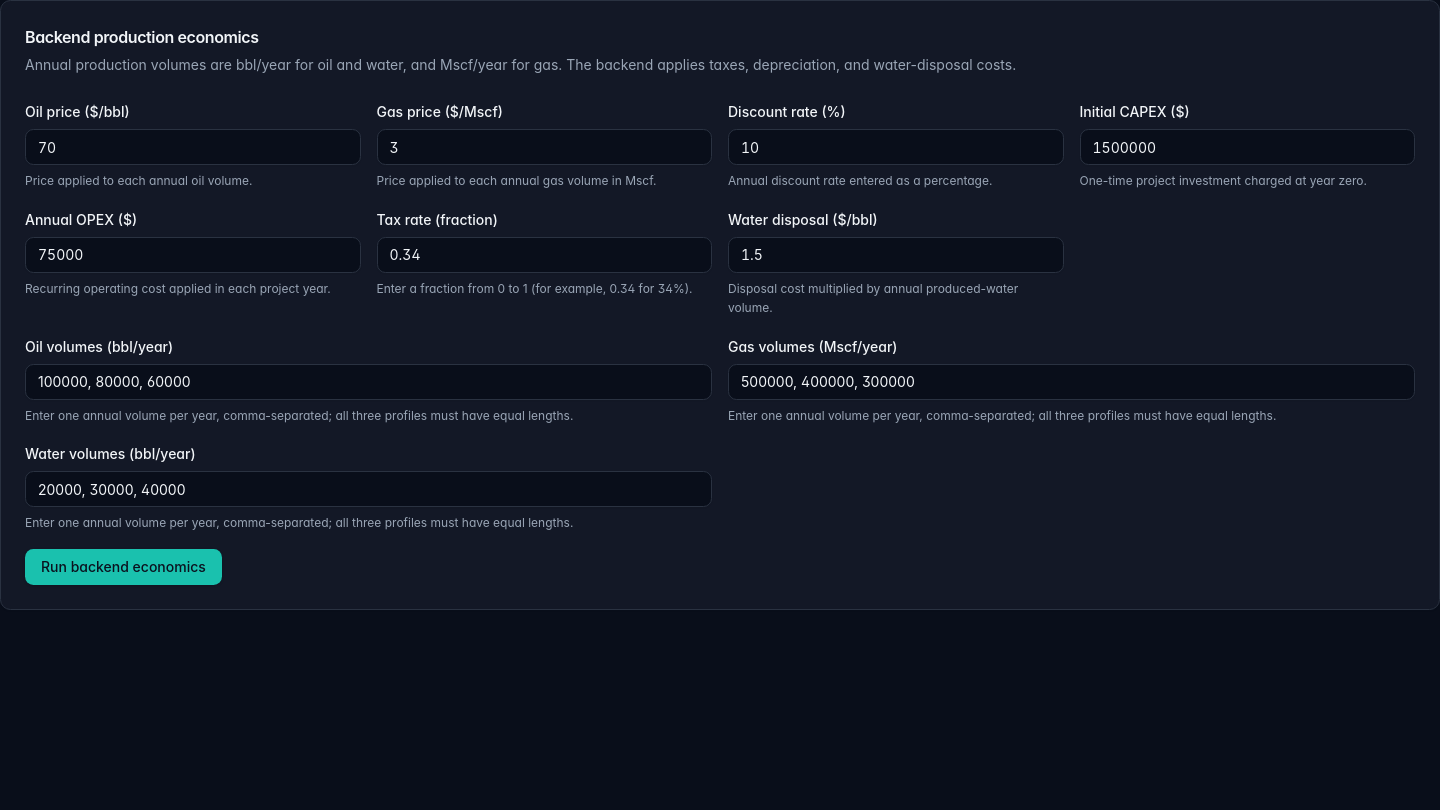
ProductionEconomicsEnginePanel › rejects production profiles with different lengths
Replace the text in the field labelled "Gas volumes (Mscf/year)" with "500000". click: (1072, 382)
box: [728,364,1415,400]
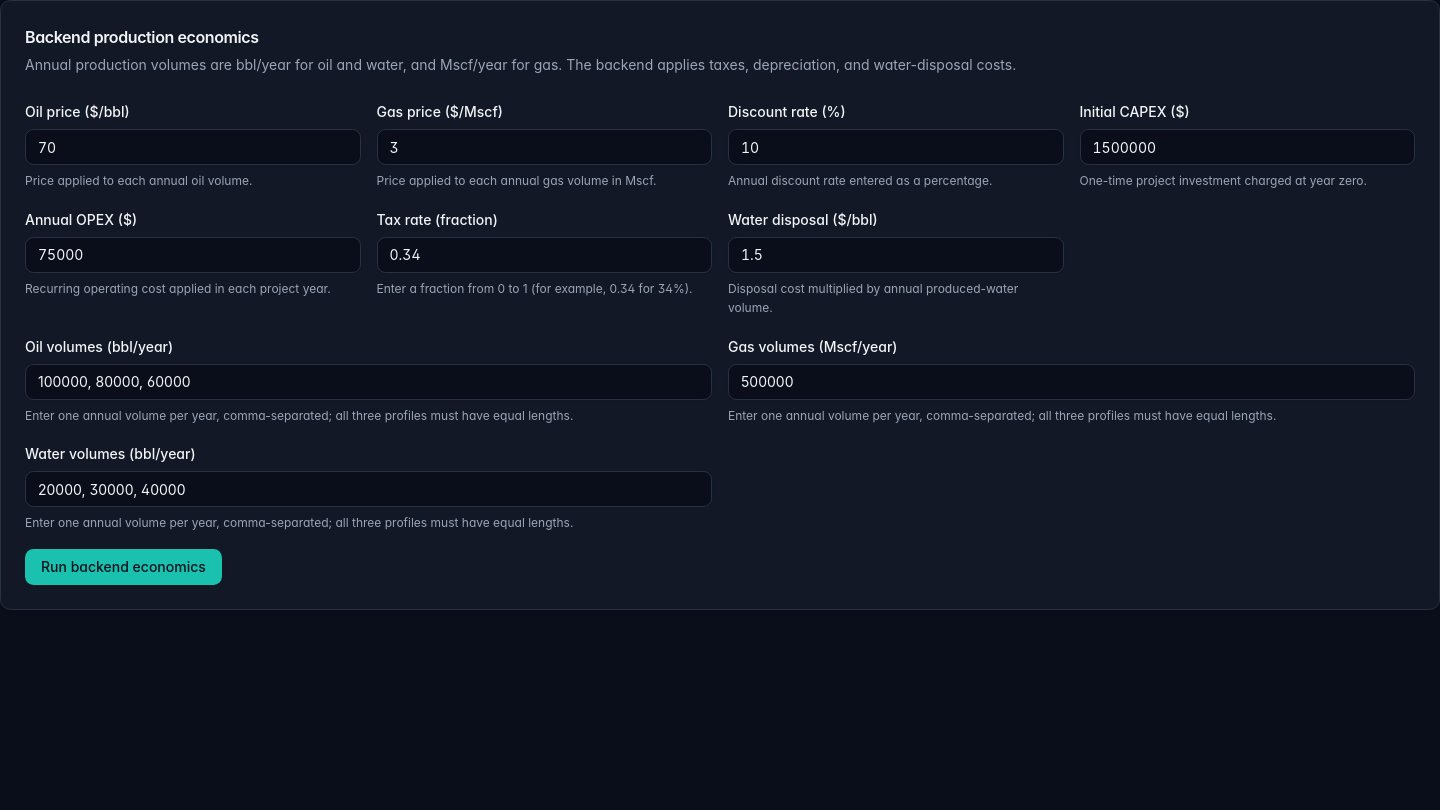
Click the button "Run backend economics". click: (123, 566)
box: [25,548,222,584]
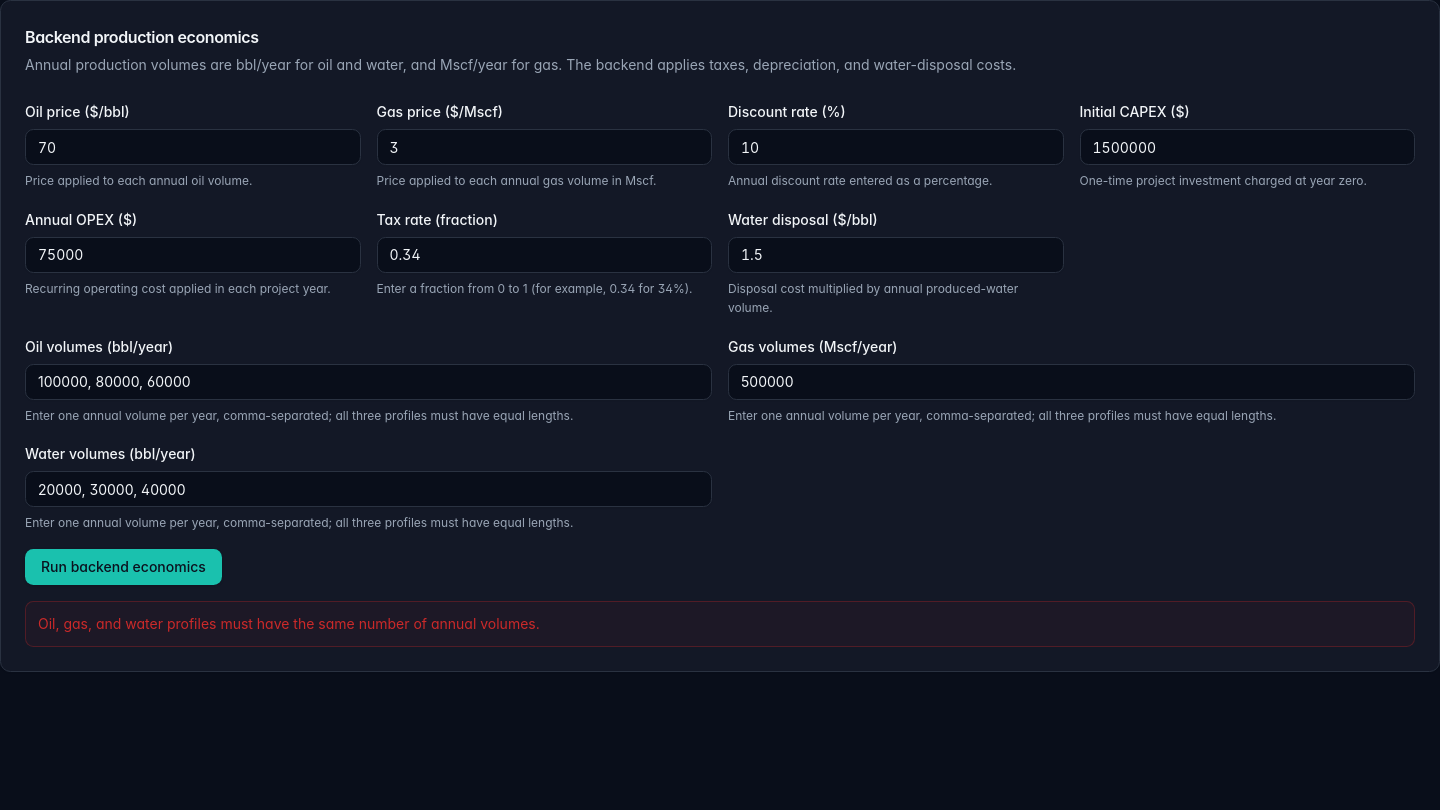
Check: the message reads "Oil, gas, and water profiles must have the same number of annual volumes.", box [38,614,540,632]
